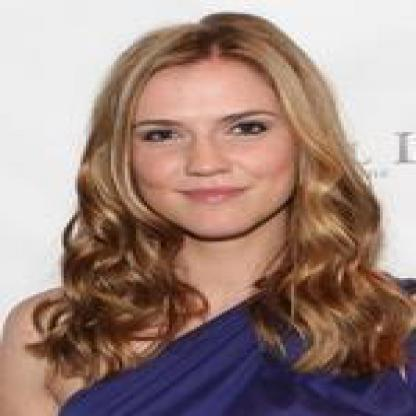long-hair: (31, 242, 400, 310)
